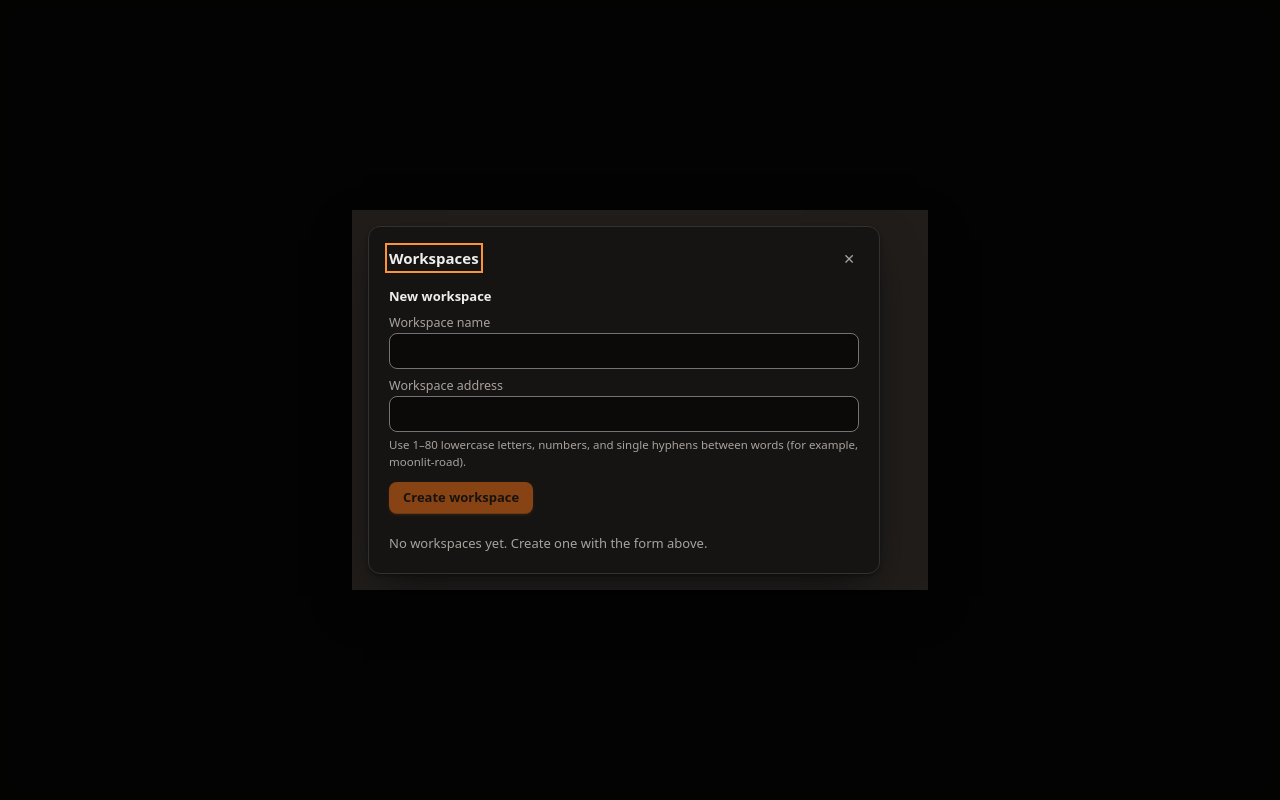
Test case: workspace manager dialog › derives the slug from the name until the slug is edited, then creates
The image size is (1280, 800).
Type "My Stories" into the field with test id "ws-new-name" at (624, 351), box [389, 333, 859, 369]
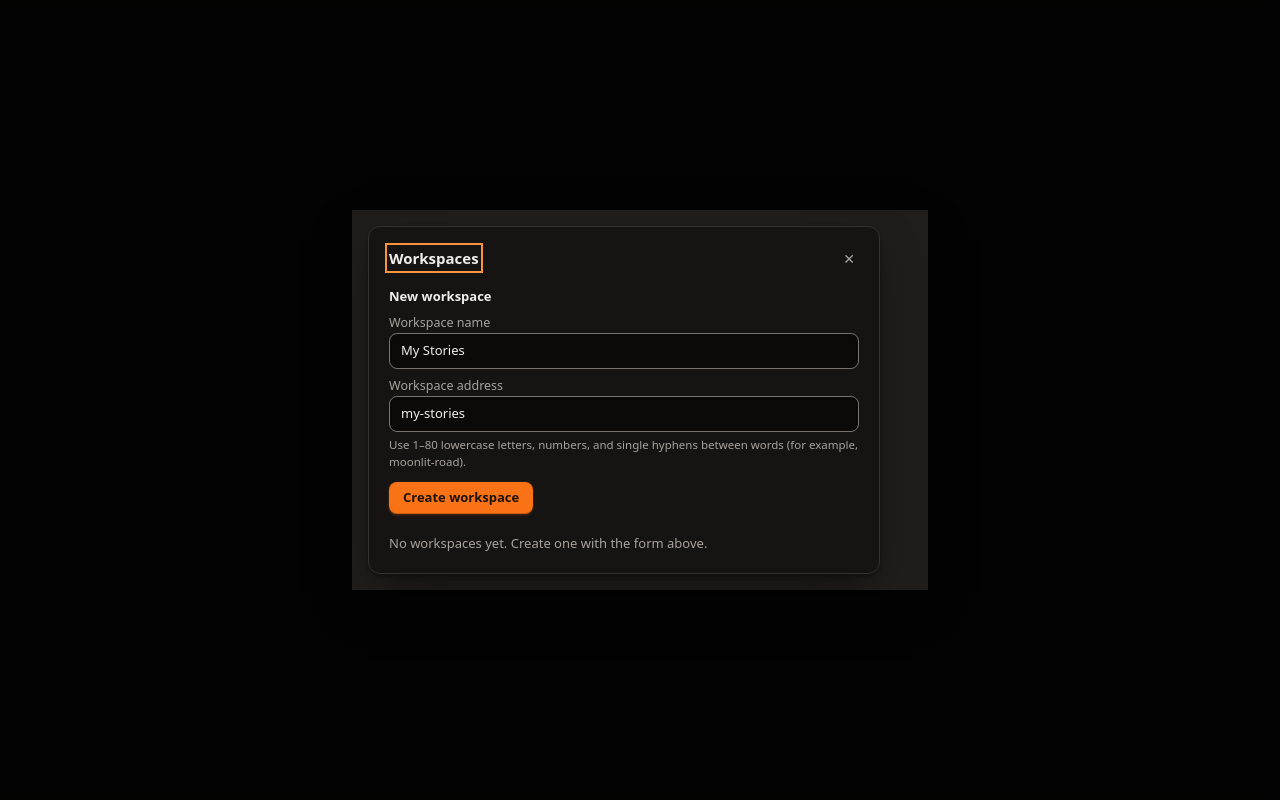
Expected: the field with test id "ws-new-slug" holds "my-stories", [389, 396, 859, 432]
Submit the form, box [389, 287, 859, 514]
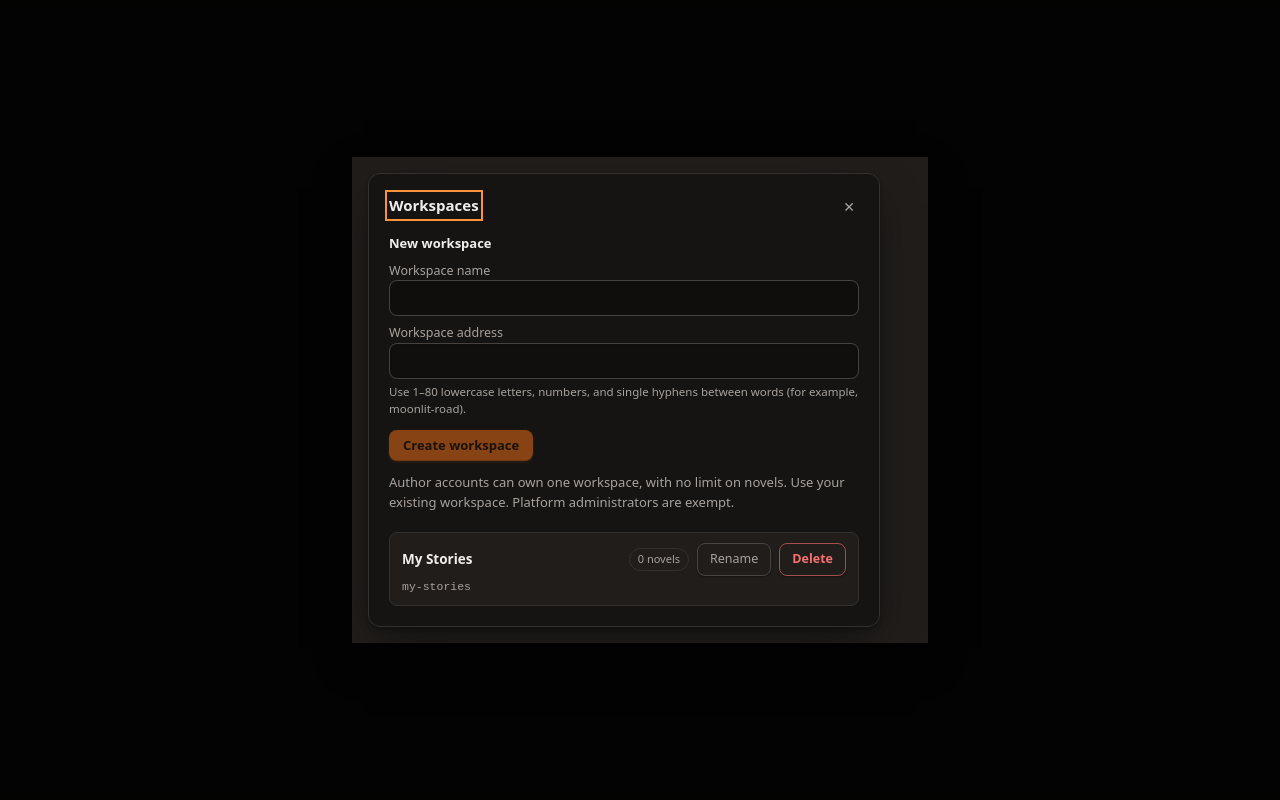
Expected: the list item with test id "ws-row-my-stories" is shown, [389, 532, 859, 606]
